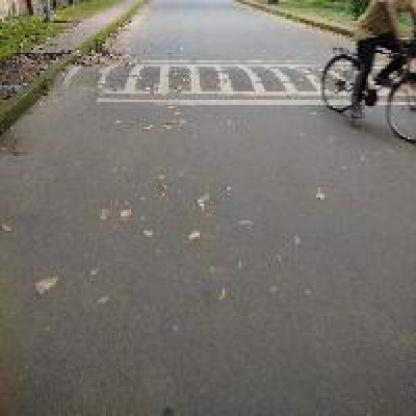Speed Bump: (56, 54, 316, 106)
